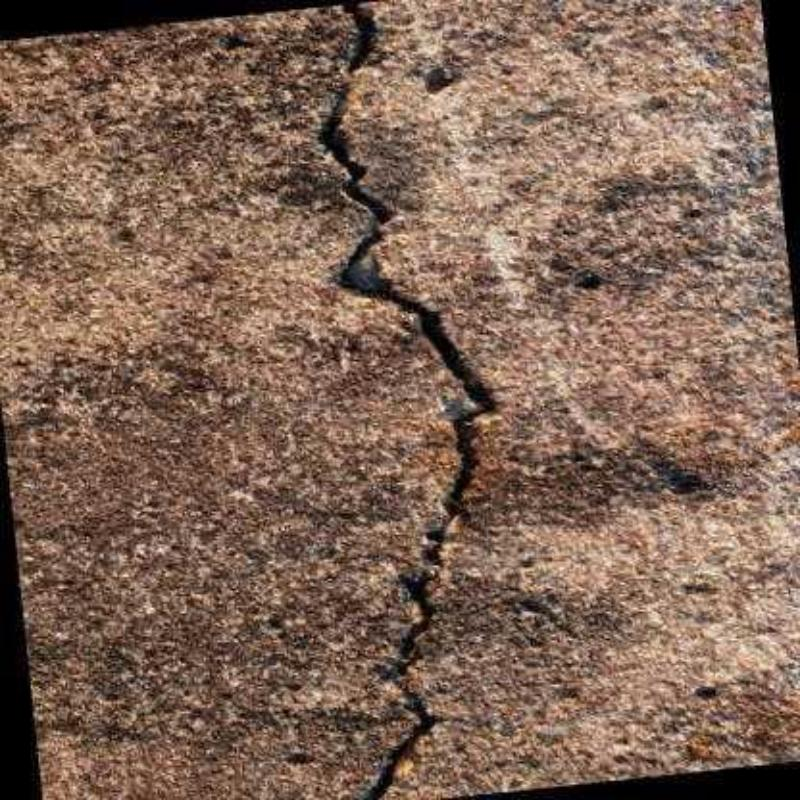pothole: (319, 5, 497, 800)
